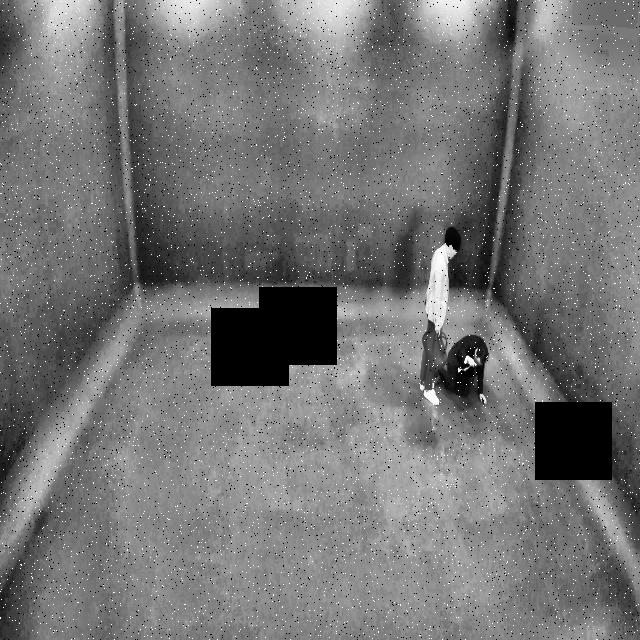assult: (414, 214, 495, 422)
